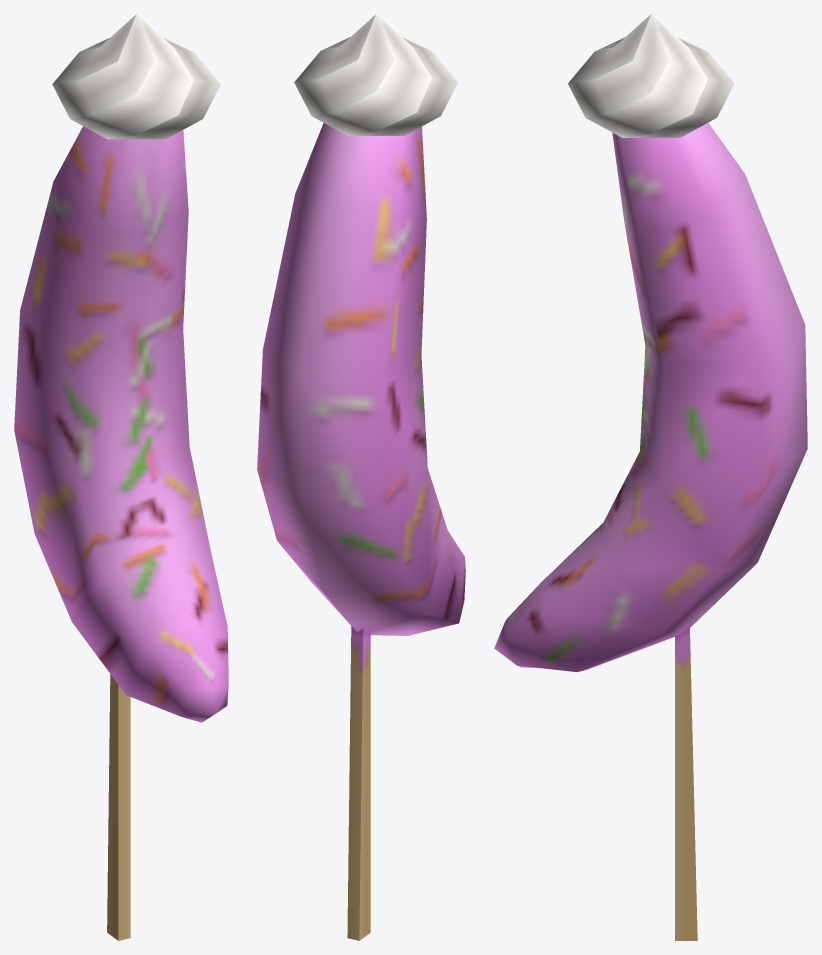
File: jsf_ChocolateBanana_a03_c02.fbx
3 views of the same model, side by side, from view 1: azimuth 30°, elevation 25°; view 2: azimuth 150°, elevation 25°; view 3: azimuth 270°, elevation 25° (orthographic). The views are drawn at different scales.
Visible parts, largest first — view 1: jsf_ChocolateBanana_a03_c02; view 2: jsf_ChocolateBanana_a03_c02; view 3: jsf_ChocolateBanana_a03_c02.
Boxes of the visible parts, left/top/right/bottom form: jsf_ChocolateBanana_a03_c02: left=14, top=14, right=228, bottom=940; jsf_ChocolateBanana_a03_c02: left=257, top=14, right=465, bottom=940; jsf_ChocolateBanana_a03_c02: left=494, top=14, right=807, bottom=940.
Bounding box in the file's own units: 3.79 × 25.44 × 7.83.
